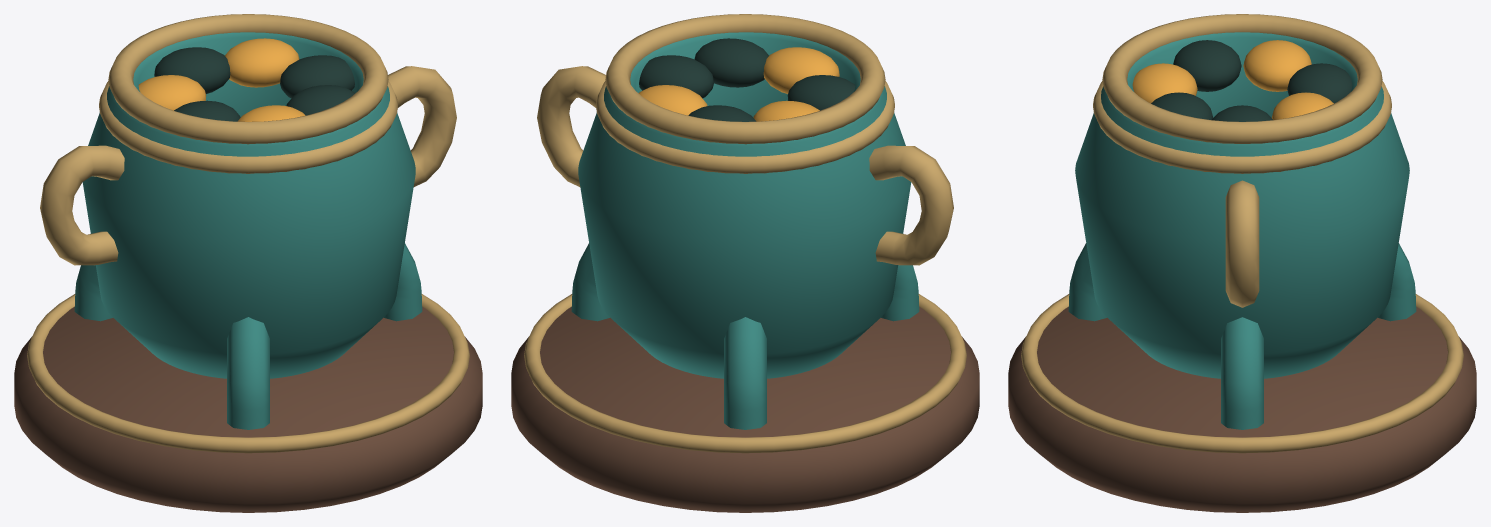
File: crucible.glb
3 renders of one model, left to right at view 1: azimuth 30°, elevation 25°; view 2: azimuth 150°, elevation 25°; view 3: azimuth 270°, elevation 25°, orthographic.
Parts seen in each view (by area): view 1: crucible_Glazed teal porcelain, crucible_Walnut carved edge, crucible_Brushed champagne brass, crucible_Deep pot interior, crucible_Warm ember enamel; view 2: crucible_Glazed teal porcelain, crucible_Walnut carved edge, crucible_Brushed champagne brass, crucible_Deep pot interior, crucible_Warm ember enamel; view 3: crucible_Glazed teal porcelain, crucible_Walnut carved edge, crucible_Brushed champagne brass, crucible_Deep pot interior, crucible_Warm ember enamel.
Boxes of the visible parts, x1,y1,x2,y2 form: crucible_Glazed teal porcelain: (74,32,422,429); crucible_Walnut carved edge: (14,306,482,512); crucible_Brushed champagne brass: (27,14,469,453); crucible_Deep pot interior: (154,47,355,121); crucible_Warm ember enamel: (138,38,305,121); crucible_Glazed teal porcelain: (571,32,919,429); crucible_Walnut carved edge: (511,306,979,512); crucible_Brushed champagne brass: (524,14,966,453); crucible_Deep pot interior: (639,38,855,121); crucible_Warm ember enamel: (638,47,839,121); crucible_Glazed teal porcelain: (1068,32,1416,429); crucible_Walnut carved edge: (1008,306,1476,512); crucible_Brushed champagne brass: (1021,14,1463,453); crucible_Deep pot interior: (1151,40,1352,121); crucible_Warm ember enamel: (1132,40,1333,119).
Bounding box in the file's own units: 0.9989 × 0.816 × 0.98.
